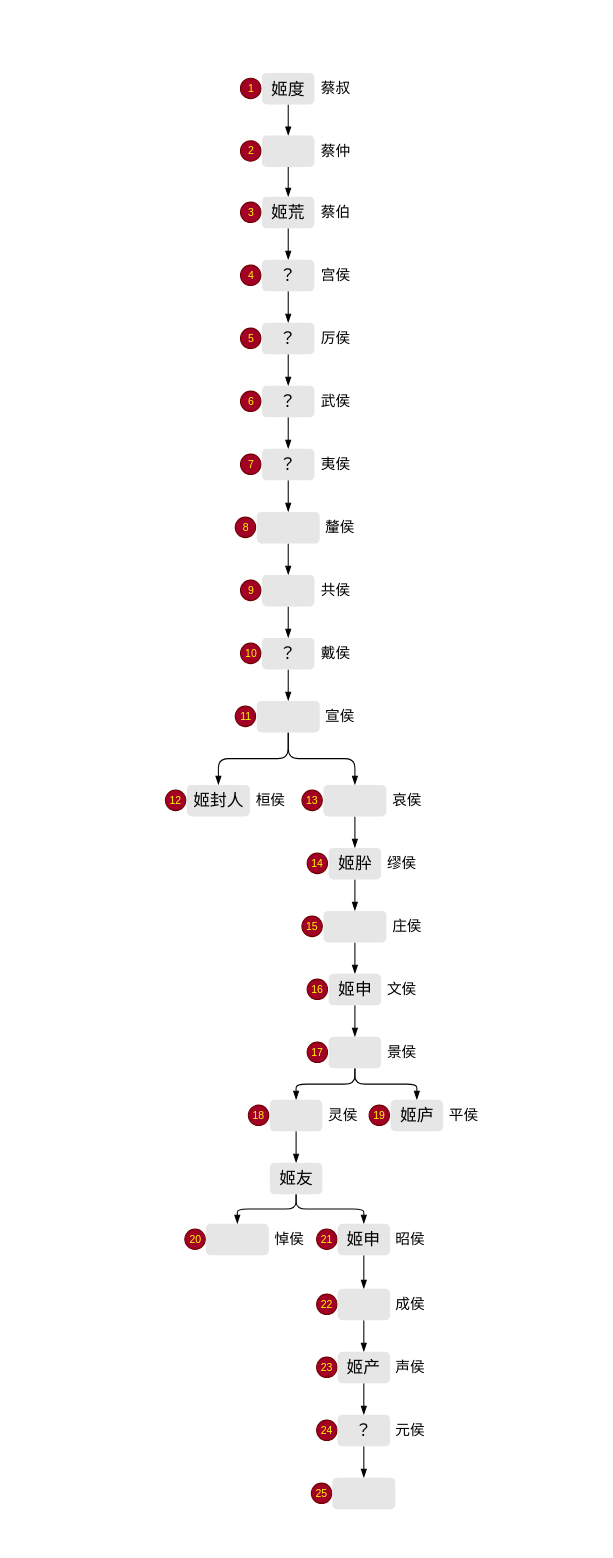
Some shapes in this 613 by 1558 pixel diagram are drawn without their labels. The box of each missing label's shape, as (x1, y1, x2, y2) in pixels:
姬东国: (205, 1223, 268, 1255)
姬侯齐: (332, 1477, 395, 1509)
姬兴: (261, 574, 314, 606)
姬固: (328, 1036, 381, 1068)
姬所事: (256, 511, 319, 543)
姬措父: (256, 700, 319, 732)
姬朔: (337, 1288, 390, 1320)
姬献舞: (323, 784, 386, 816)
姬甲午: (323, 910, 386, 942)
姬胡: (261, 135, 314, 166)
姬般: (269, 1099, 322, 1131)
